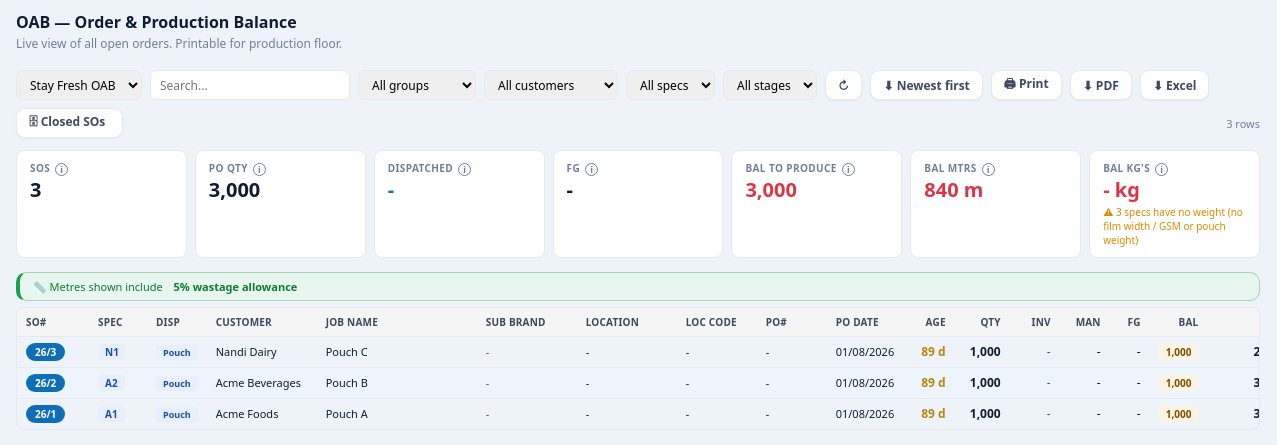
it: OAB board — filter by group, and narrow what follows › drops a customer and spec that the newly chosen group cannot have
Expected: the text "Pouch A" is shown, [317,398,477,429]
Select "Nandi Dairy" in the dropdown named "Filter by customer": (551, 85) [484,70,618,100]
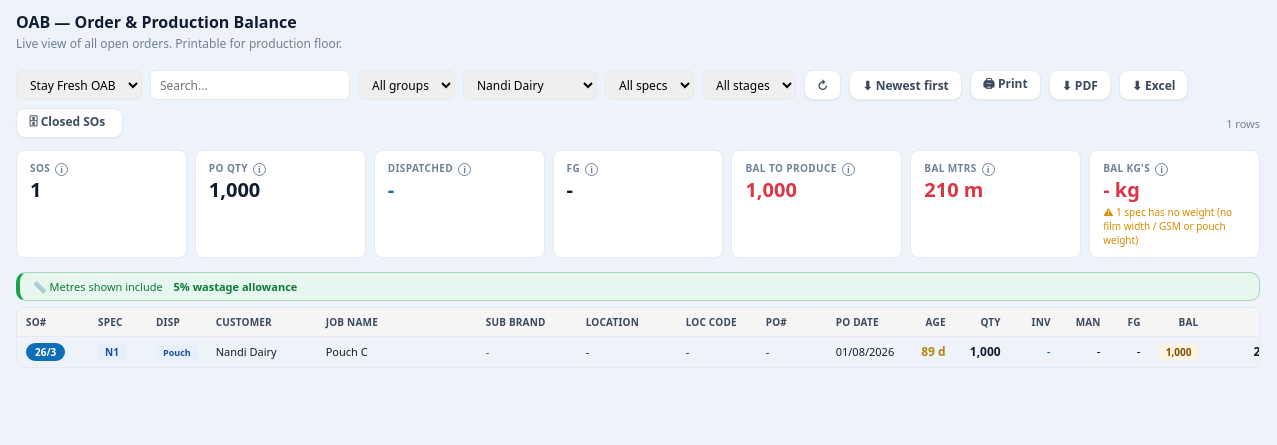
Result: the text "Pouch A" is gone
Select "ACME GROUP" in the dropdown named "Filter by group": (406, 85) [358,70,455,100]
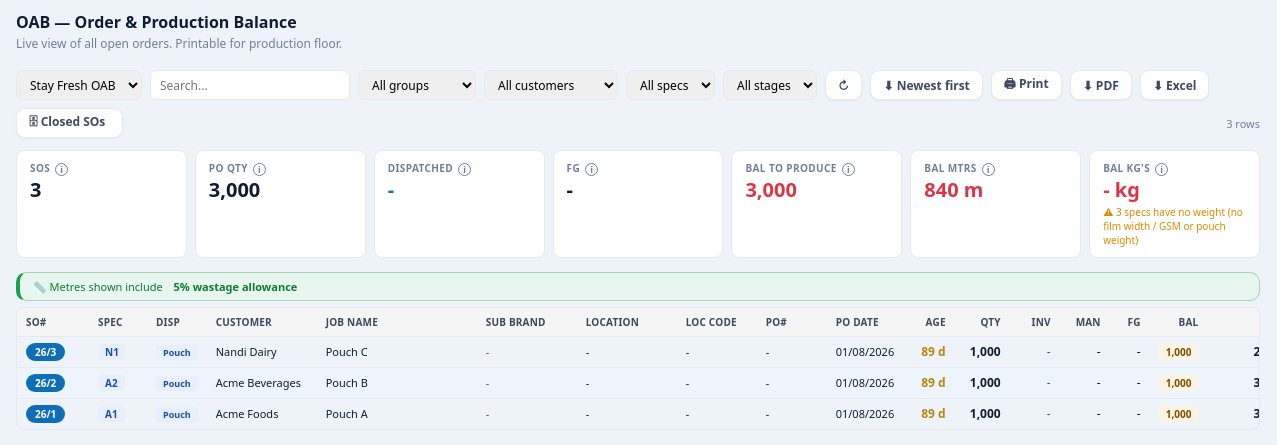
Expected: the dropdown named "Filter by spec" shows "All specs", [626,70,715,100]
Result: the text "Pouch A" is shown at [317,398,477,429]
